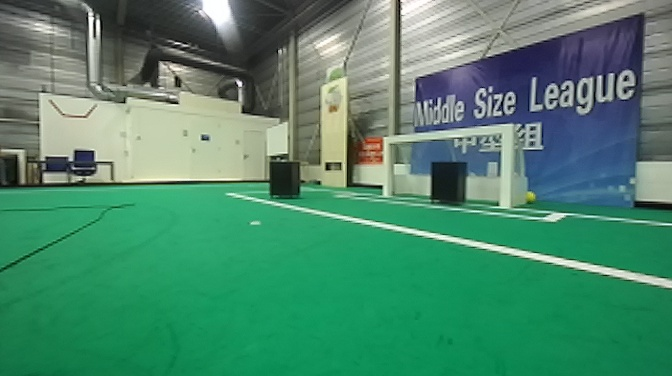ball: (522, 185, 538, 204)
goalpost: (499, 125, 516, 210), (383, 139, 395, 196)
